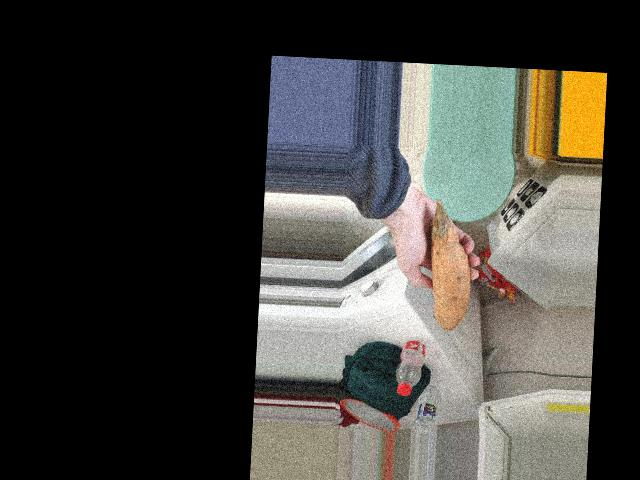sweet_potato: (424, 214, 474, 319)
